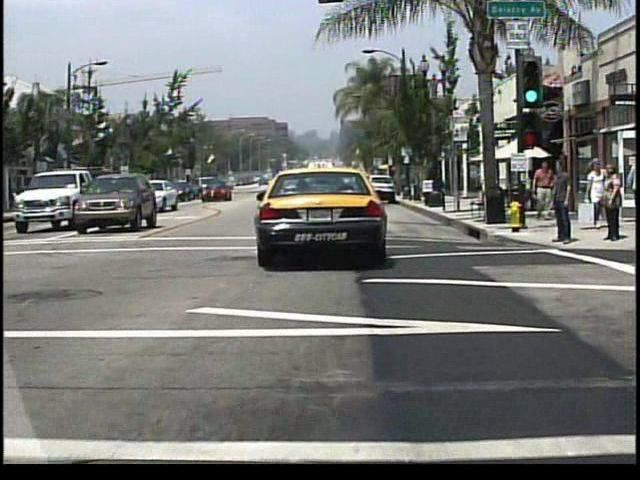person: (550, 156, 572, 244), (599, 164, 620, 243), (587, 159, 606, 231), (534, 163, 554, 218)
